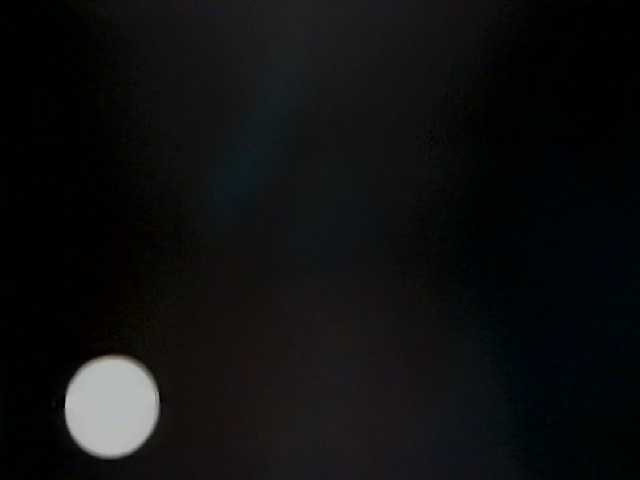KHSLJ: (8, 257, 238, 480)
